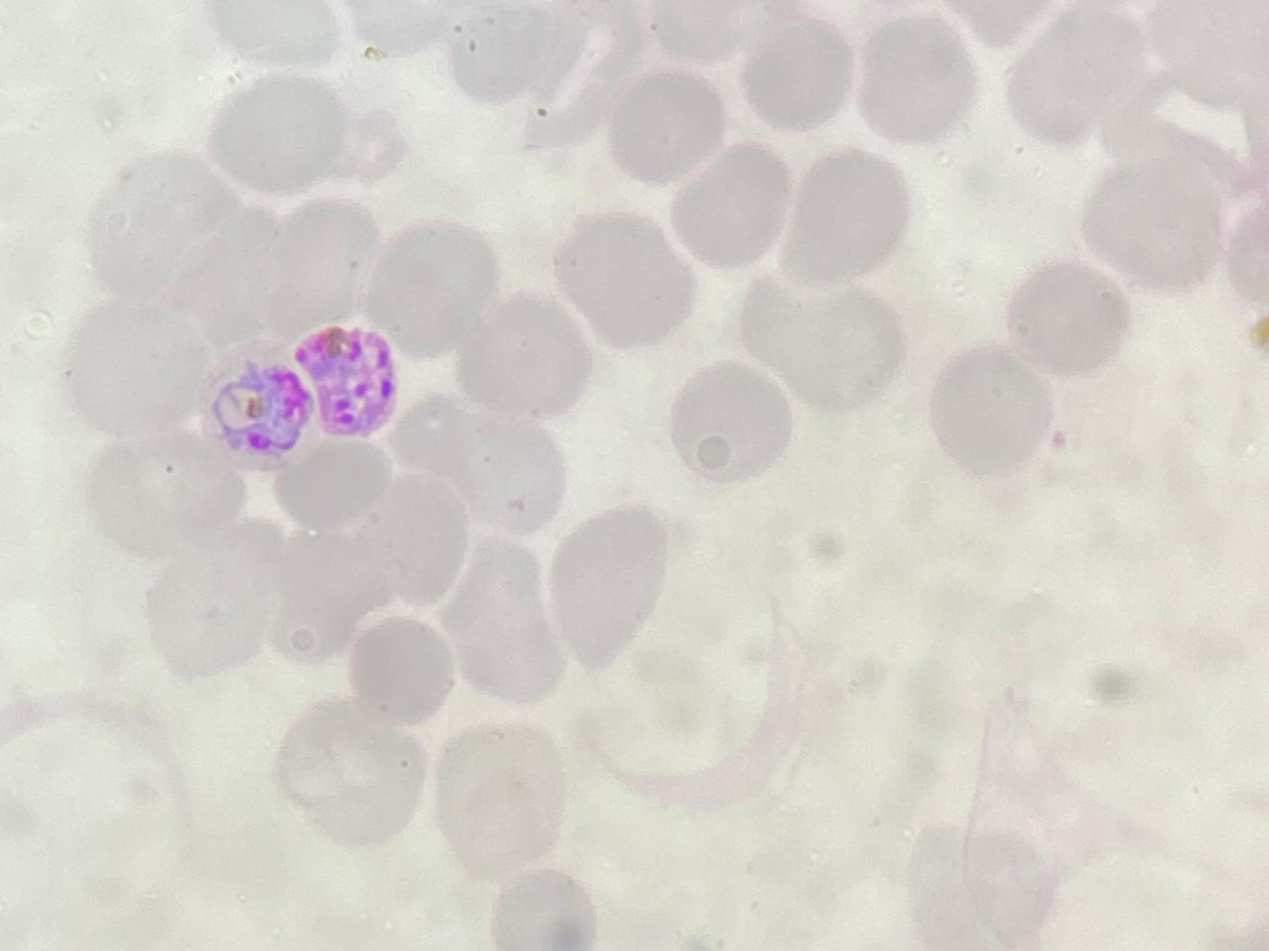Infected: (195, 341, 319, 461), (291, 321, 401, 438)
Uninfected: (274, 699, 431, 853), (89, 153, 249, 304), (743, 280, 905, 418), (142, 530, 288, 681), (545, 504, 672, 675), (432, 722, 570, 878), (63, 301, 210, 441), (554, 211, 696, 352), (1007, 9, 1152, 147), (1083, 151, 1223, 293), (85, 432, 240, 559), (362, 217, 501, 358), (253, 198, 387, 341), (440, 543, 564, 697), (270, 521, 398, 656), (783, 149, 910, 285), (205, 73, 342, 195), (928, 347, 1052, 480), (167, 219, 293, 348), (666, 361, 794, 487), (463, 294, 592, 419), (350, 471, 469, 603), (670, 143, 793, 270), (855, 15, 974, 145), (452, 406, 566, 533), (1007, 260, 1129, 377), (534, 3, 662, 110), (608, 65, 724, 181), (743, 18, 857, 133), (448, 0, 558, 103), (351, 618, 457, 724), (386, 393, 492, 499), (277, 436, 392, 533), (521, 71, 623, 156)
